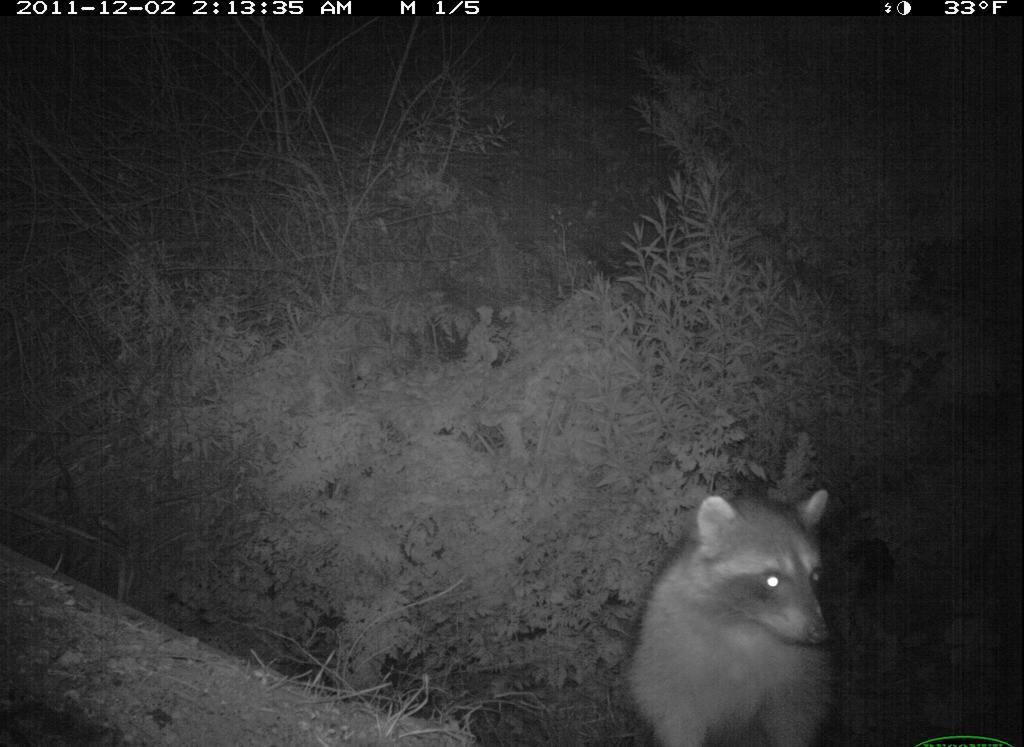raccoon: (614, 481, 857, 745)
